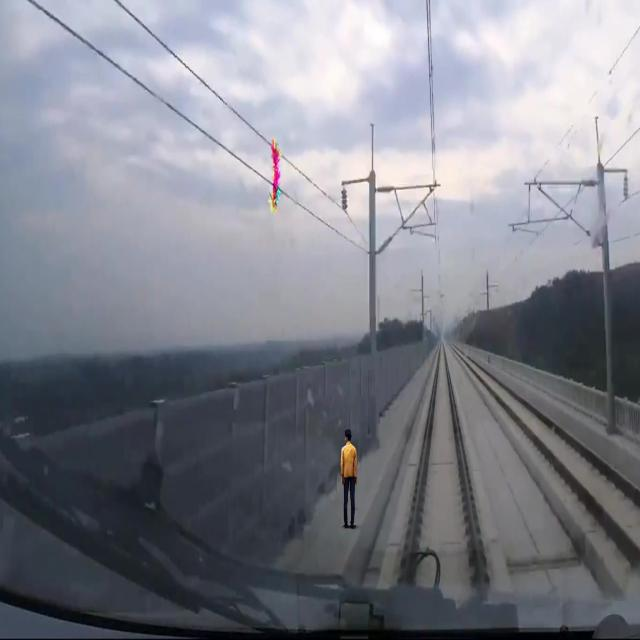floating object: (269, 133, 282, 215)
